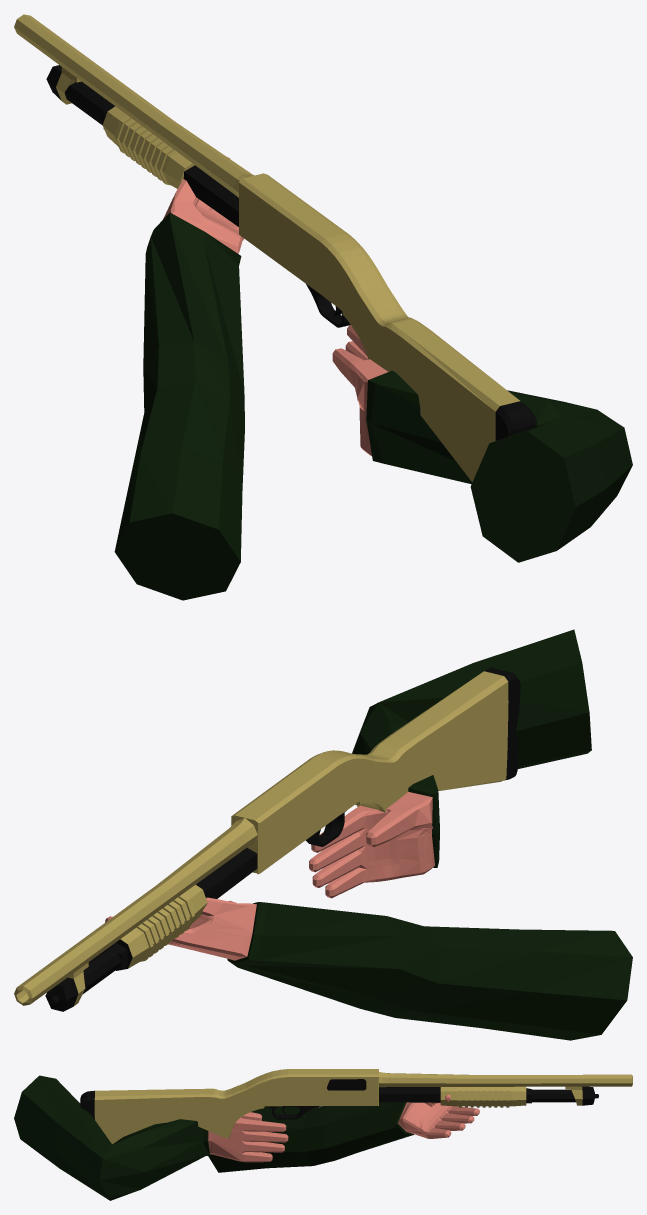
Rendered from vm_nova.glb.
3 renders of one model, top to bottom at view 1: azimuth 30°, elevation 25°; view 2: azimuth 150°, elevation 25°; view 3: azimuth 270°, elevation 25°, orthographic. The views are drawn at different scales.
Parts seen in each view (by area): view 1: arms, gun; view 2: arms, gun; view 3: arms, gun.
Part boxes in pixels (x1,y1,x2,y2): arms: (114,157,632,600); gun: (14,14,537,482); arms: (105,629,632,1040); gun: (14,667,520,1011); arms: (14,1075,479,1200); gun: (80,1069,632,1144).
Size of the model in its own units: 1.18 by 0.7992 by 2.92.
